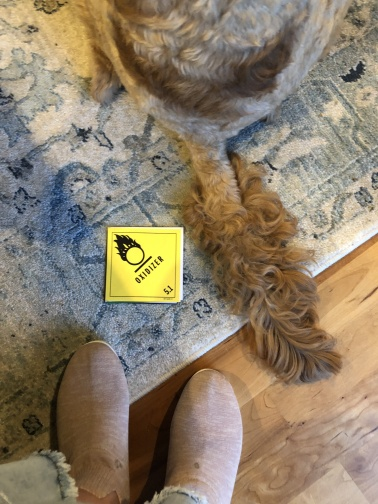Oxidizer: (104, 226, 183, 304)
